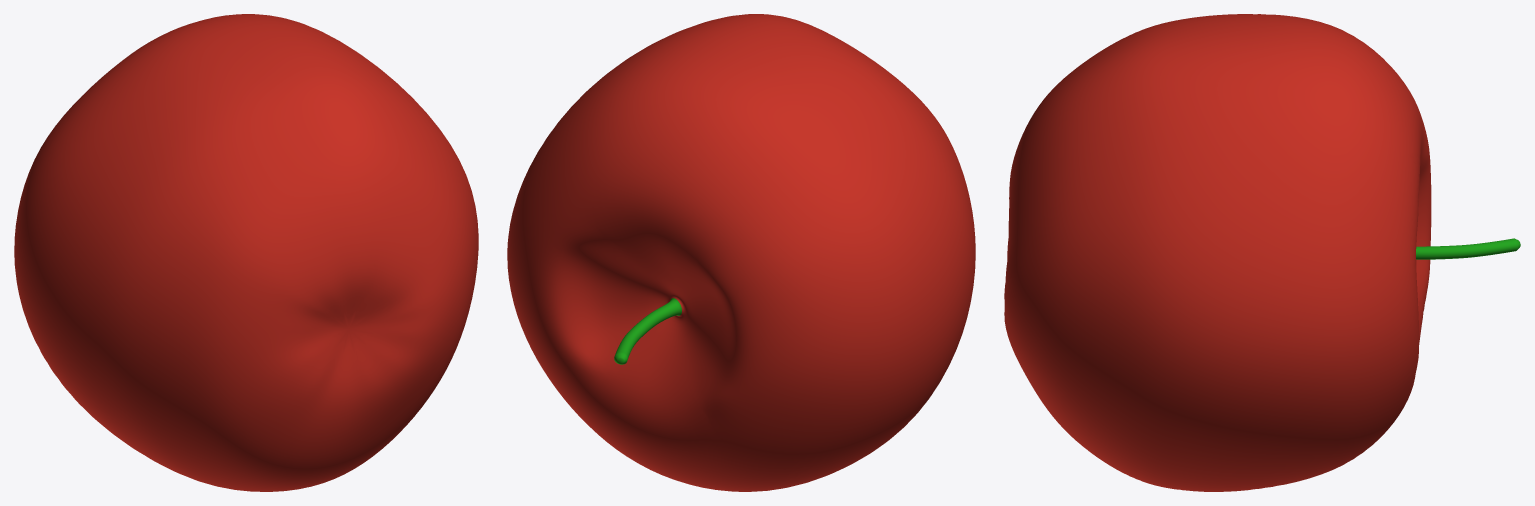
The model's file is apple.fbx.
The picture shows the model from 3 angles, left to right: view 1: azimuth 30°, elevation 25°; view 2: azimuth 150°, elevation 25°; view 3: azimuth 270°, elevation 25°; orthographic projection. The views are drawn at different scales.
Visible parts, largest first — view 1: apple; view 2: apple; view 3: apple.
Part boxes in pixels (x1,y1,x2,y2): apple: [14, 14, 478, 491]; apple: [507, 14, 975, 491]; apple: [1004, 14, 1520, 491].
Size of the model in its own units: 3452 by 3462 by 3684.
